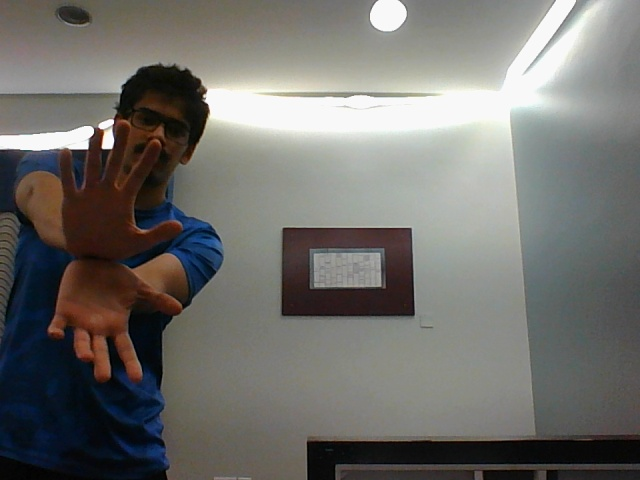blast: (43, 119, 192, 382)
